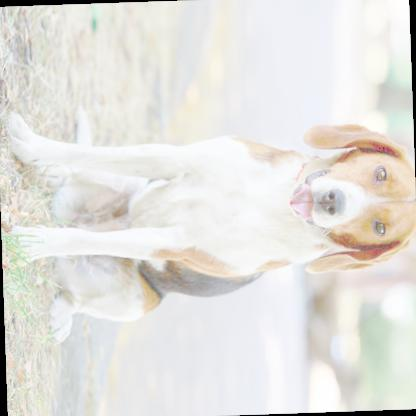DOG: (4, 109, 415, 348)
